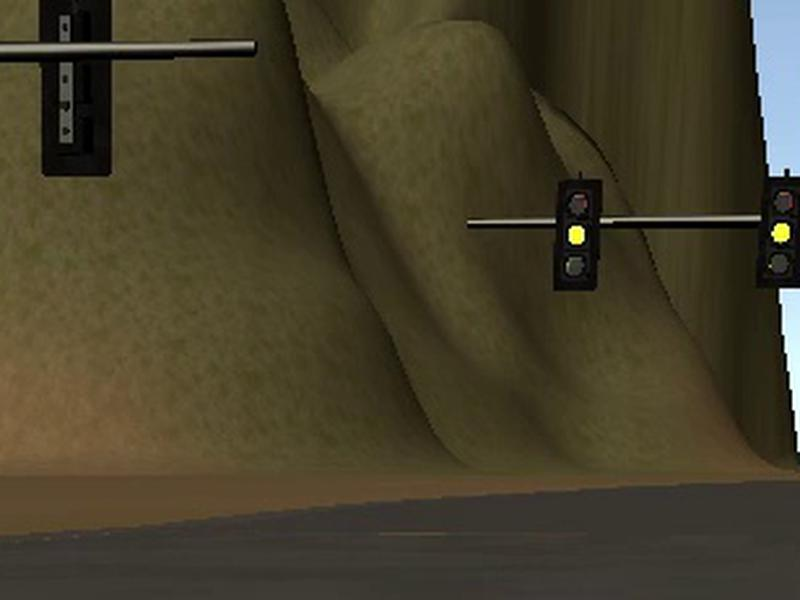Yellow: (551, 179, 603, 292), (754, 177, 800, 288)
